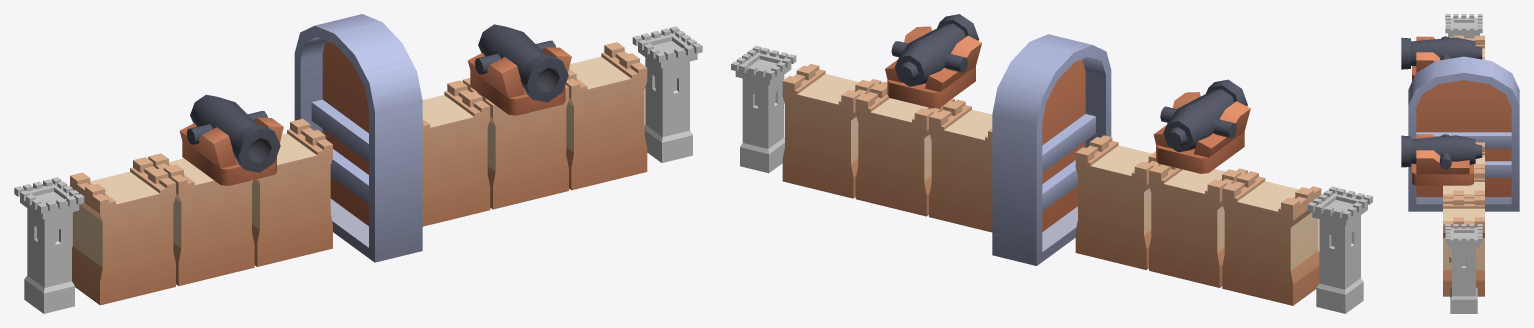
The model's file is london_bld_fort_wall.glb.
3 renders of one model, left to right at view 1: azimuth 30°, elevation 25°; view 2: azimuth 150°, elevation 25°; view 3: azimuth 270°, elevation 25°, orthographic. The views are drawn at different scales.
Parts seen in each view (by area): view 1: wall (×6), gate, SmallSquareTower_Cube.041 (×2), cannon (×2), Group (×2); view 2: wall (×6), gate, SmallSquareTower_Cube.041 (×2), cannon (×2), Group (×4); view 3: gate, cannon (×2), SmallSquareTower_Cube.041 (×2), wall (×4), Group (×2).
Boxes of the visible parts, <box> form: wall (×6): <box>70,42,647,305</box>; gate: <box>294,14,422,262</box>; SmallSquareTower_Cube.041 (×2): <box>14,26,702,313</box>; cannon (×2): <box>182,24,568,185</box>; Group (×2): <box>179,53,524,168</box>; wall (×6): <box>782,64,1321,305</box>; gate: <box>992,34,1111,265</box>; SmallSquareTower_Cube.041 (×2): <box>731,45,1372,313</box>; cannon (×2): <box>887,14,1247,173</box>; Group (×4): <box>885,26,1250,157</box>; gate: <box>1408,56,1519,211</box>; cannon (×2): <box>1401,36,1482,185</box>; SmallSquareTower_Cube.041 (×2): <box>1445,14,1482,313</box>; wall (×4): <box>1443,35,1484,296</box>; Group (×2): <box>1416,52,1469,174</box>.
Bounding box in the file's own units: 25.26 × 7.29 × 5.63.
Materials: 13 (9 with a texture image).
